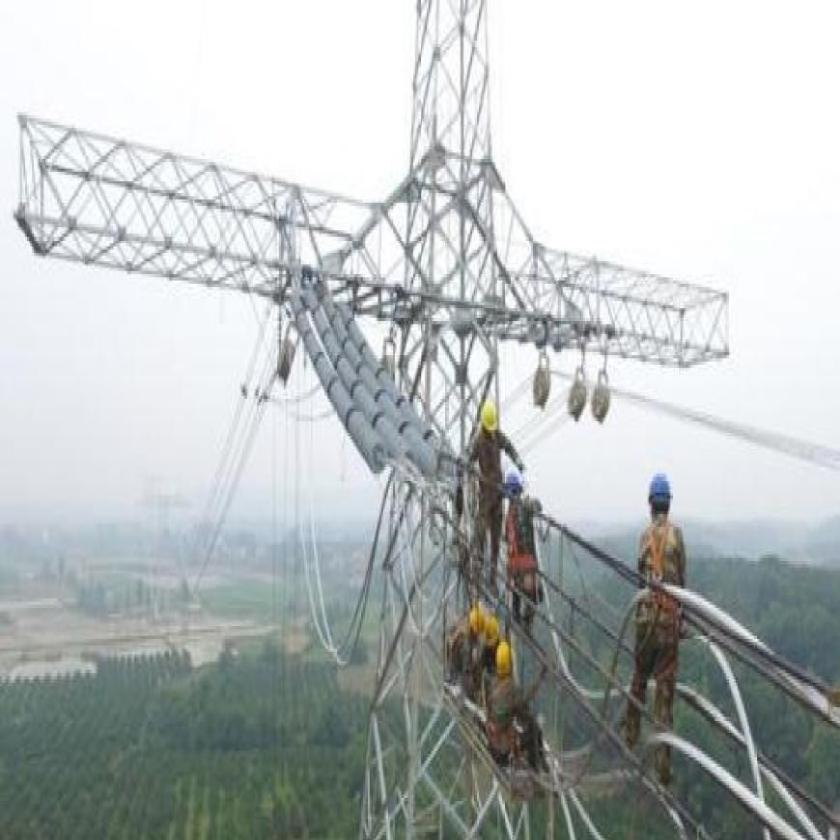Con_casco: (646, 472, 674, 530), (504, 470, 526, 504), (482, 405, 498, 446)
